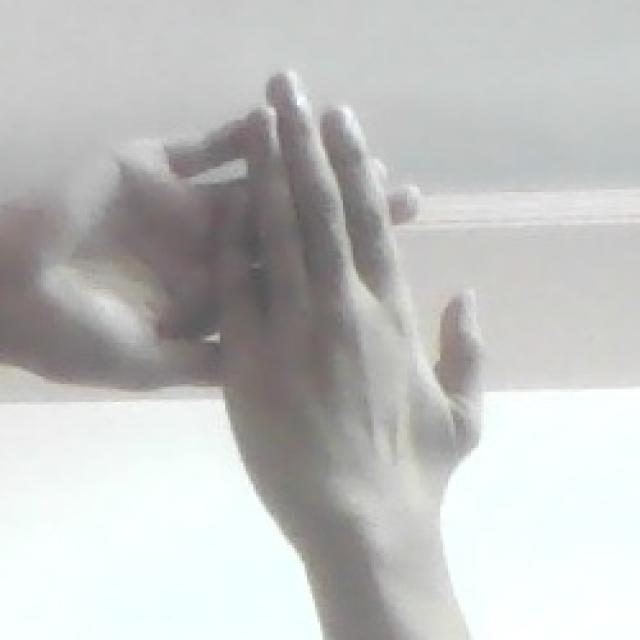Alphabet-H: (26, 67, 562, 489)
